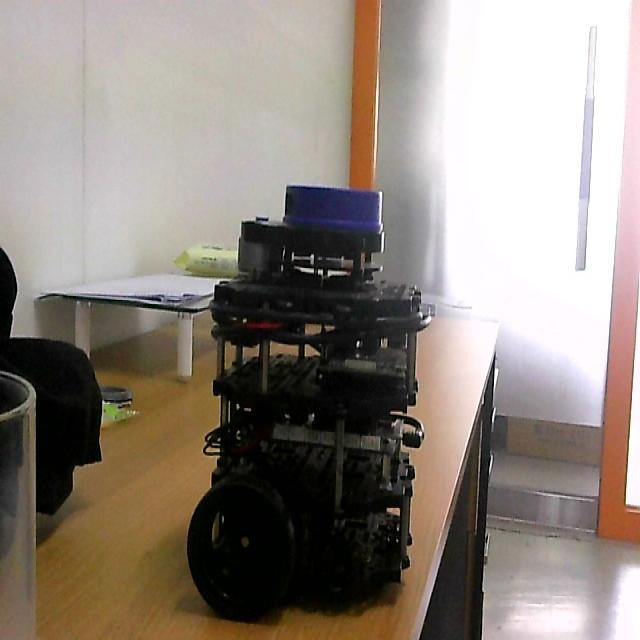turtle: (185, 178, 435, 622)
